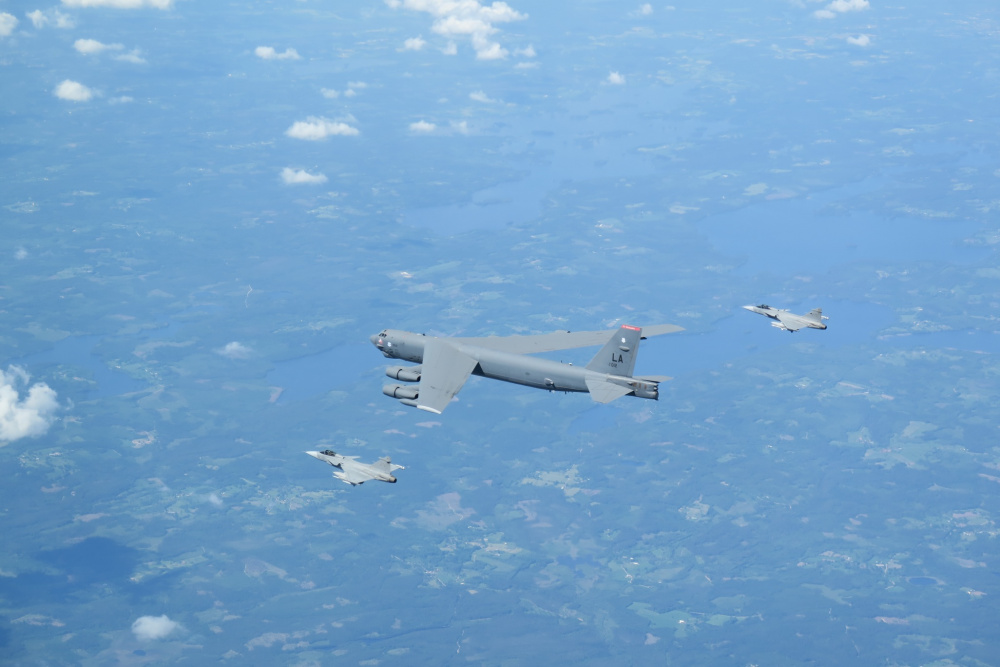B52: (369, 323, 687, 415)
JAS39: (301, 449, 406, 488), (739, 304, 830, 334)
